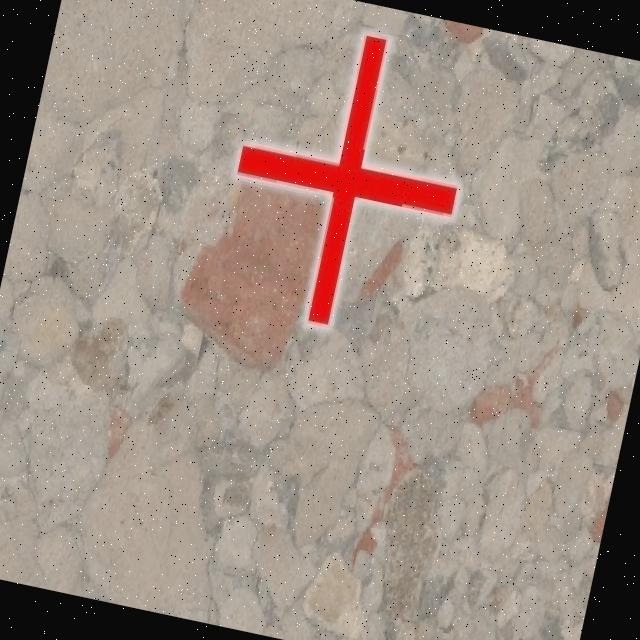x_marker: (208, 14, 484, 346)
